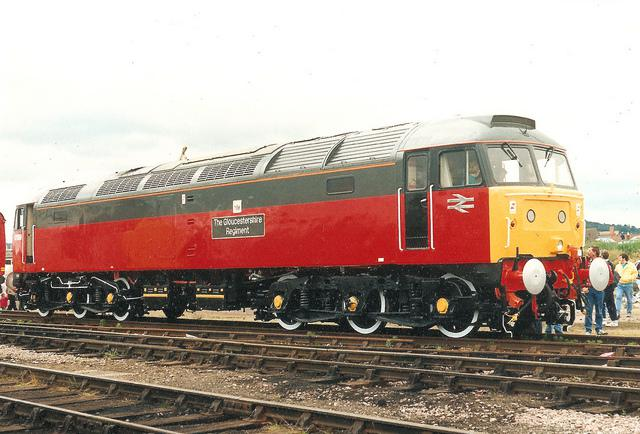Train: (5, 114, 588, 340)
